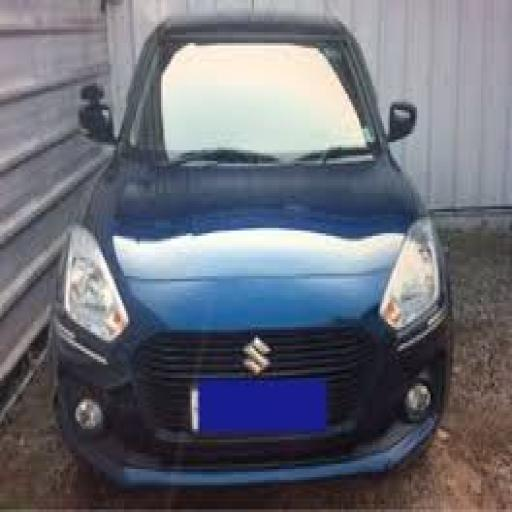car: (44, 7, 488, 497)
